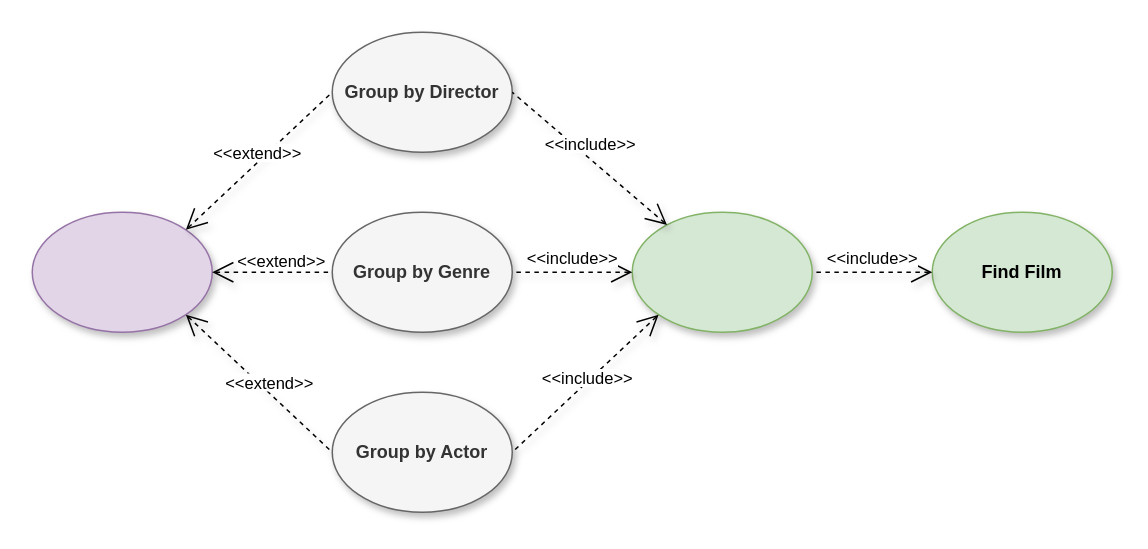
The diagram is 1148 pixels wide and 549 high, and some of its shapes have lost their labels. The shapes that lost their labels are listed below. From the top down, each one's centre as x and y in pixels, then its label:
At [123,274]: "View Average Rating".
At [723,274]: "Browse Film".
